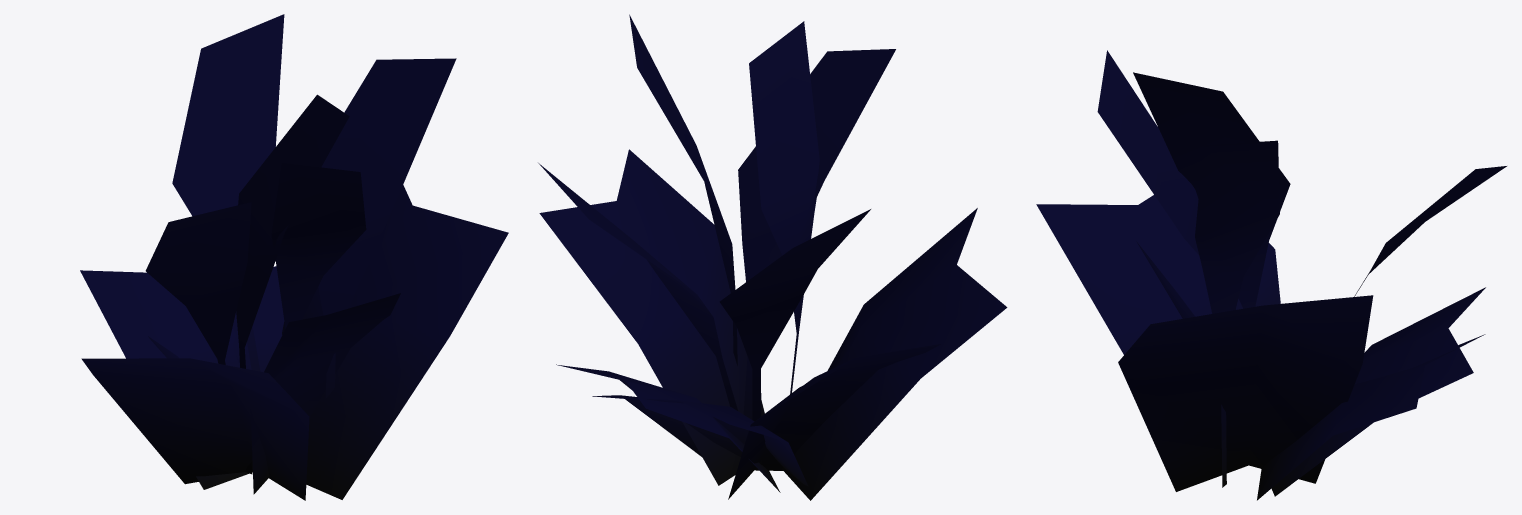
The model's file is SM_Foliage_ReedB_01.fbx.
The picture shows the model from 3 angles, left to right: view 1: azimuth 30°, elevation 25°; view 2: azimuth 150°, elevation 25°; view 3: azimuth 270°, elevation 25°; orthographic projection. The views are drawn at different scales.
Parts seen in each view (by area): view 1: SM_Foliage_ReedB_01; view 2: SM_Foliage_ReedB_01; view 3: SM_Foliage_ReedB_01.
Boxes of the visible parts, x1,y1,x2,y2 form: SM_Foliage_ReedB_01: (80,14,508,500); SM_Foliage_ReedB_01: (538,14,1007,500); SM_Foliage_ReedB_01: (1036,50,1506,500).
Bounding box in the file's own units: 123 × 121 × 117.
